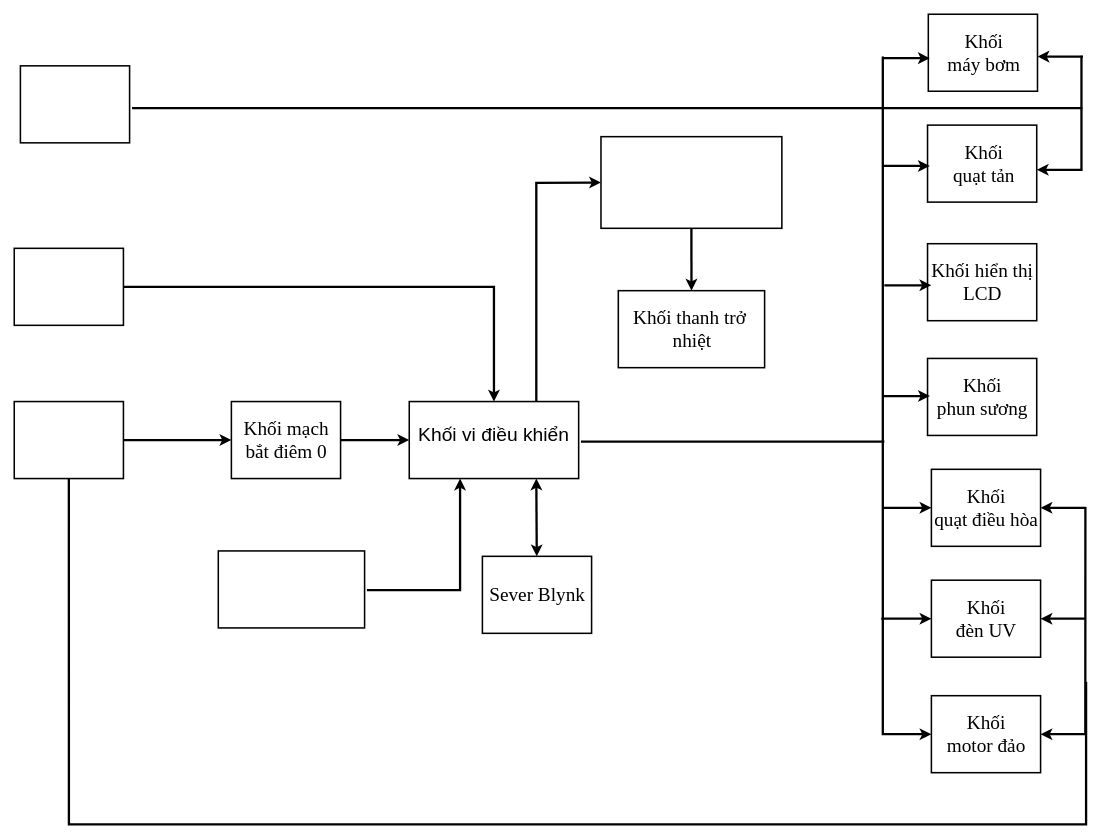
The diagram is 1106 pixels wide and 839 high, and some of its shapes have lost their labels. Each missing label, with the centre of its shape:
"Khối biến đổi điện áp sử dụng Triac" goes at point 691,182.
"Khối cảm biến nhiệt độ và độ ẩm" goes at point 291,589.
"Nguồn 12VDC" goes at point 74,104.
"Nguồn 220VAC" goes at point 68,439.
"Nguồn 5VDC" goes at point 68,286.
